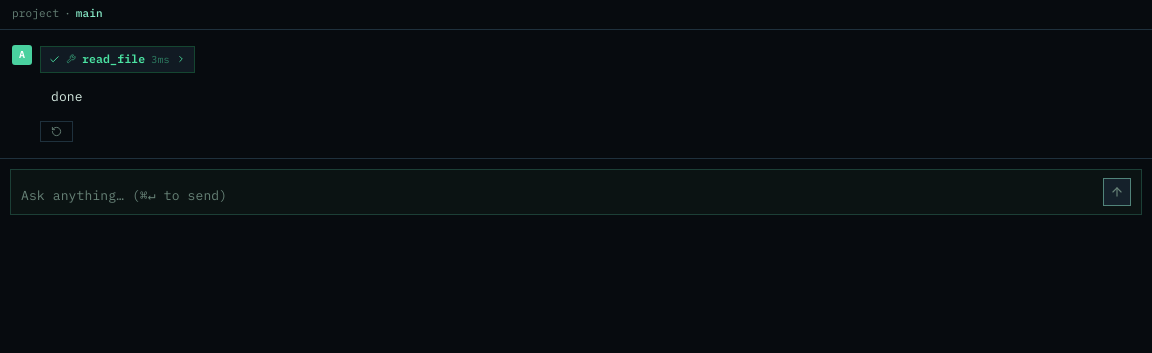
AIChat — ToolBadge result rendering › AIChat_ToolBadge_stringResultRendersDirectly
Click the text "read_file".
click(114, 59)  # box [82,50,145,68]
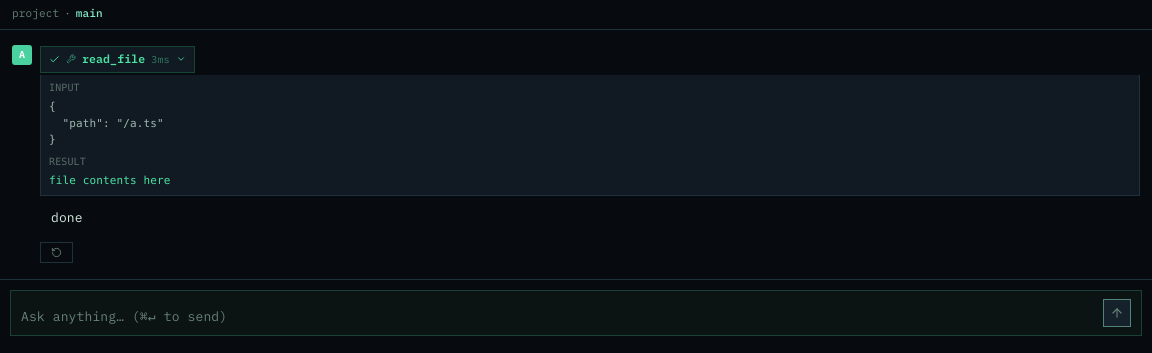
Expected: the text "file contents here" is shown, [49,174,170,187]
